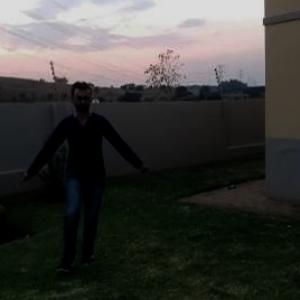land: (15, 78, 142, 278)
